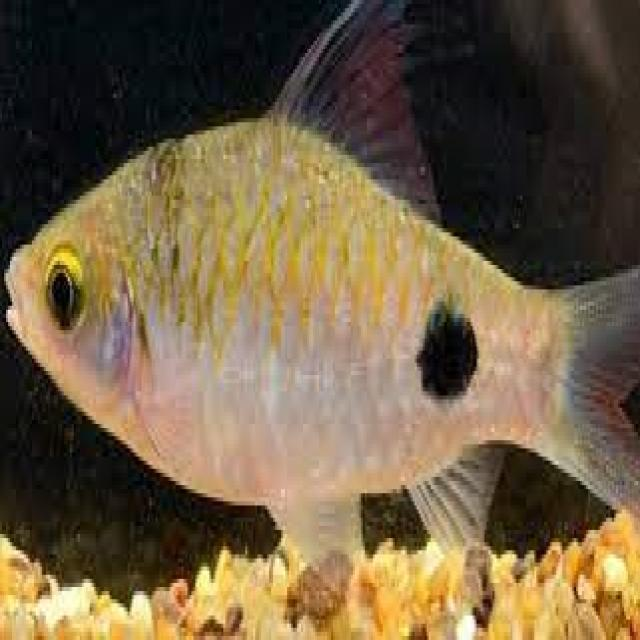Black-Spotted-Barb: (5, 21, 640, 576)
